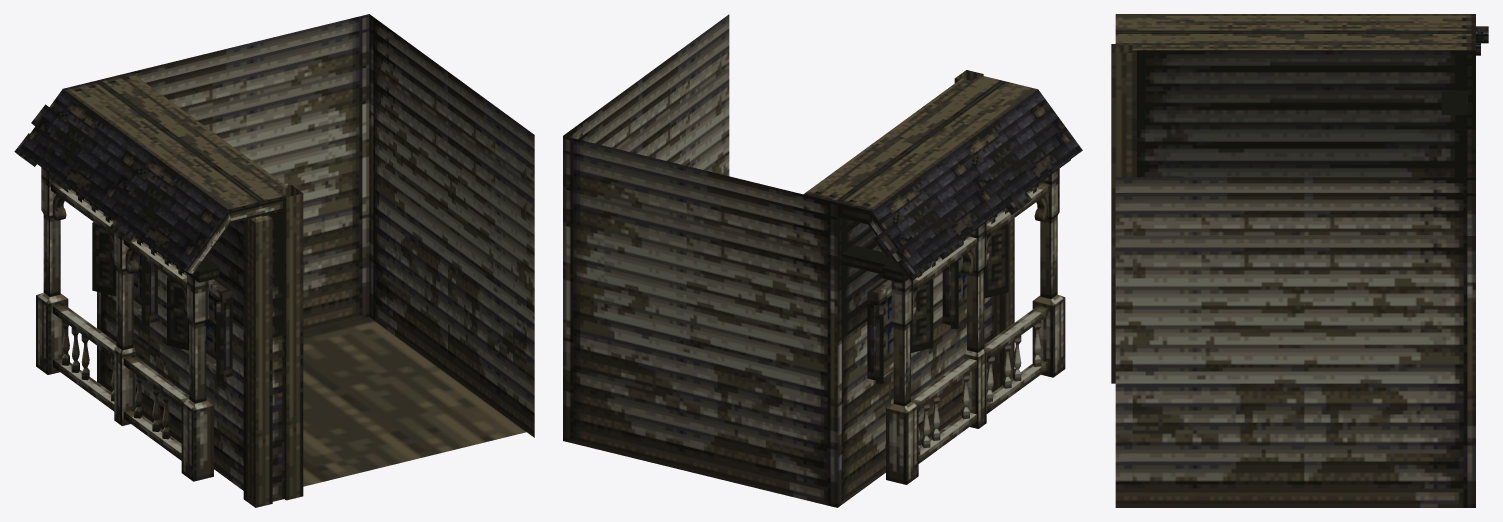
Rendered from EnvBdgMD_Wilderness_A_Outdoor_A_1F_Broken.FBX.
3 views of the same model, side by side, from view 1: azimuth 30°, elevation 25°; view 2: azimuth 150°, elevation 25°; view 3: azimuth 270°, elevation 25° (orthographic). The views are drawn at different scales.
Parts seen in each view (by area): view 1: EnvBdgMD_Wilderness_A_Outdoor_A_1F_Broken; view 2: EnvBdgMD_Wilderness_A_Outdoor_A_1F_Broken; view 3: EnvBdgMD_Wilderness_A_Outdoor_A_1F_Broken.
Boxes of the visible parts, x1,y1,x2,y2 form: EnvBdgMD_Wilderness_A_Outdoor_A_1F_Broken: [14, 14, 534, 507]; EnvBdgMD_Wilderness_A_Outdoor_A_1F_Broken: [563, 14, 1082, 507]; EnvBdgMD_Wilderness_A_Outdoor_A_1F_Broken: [1111, 14, 1488, 507].
Bounding box in the file's own units: 521 × 425 × 440.
1 material, 1 textured.
